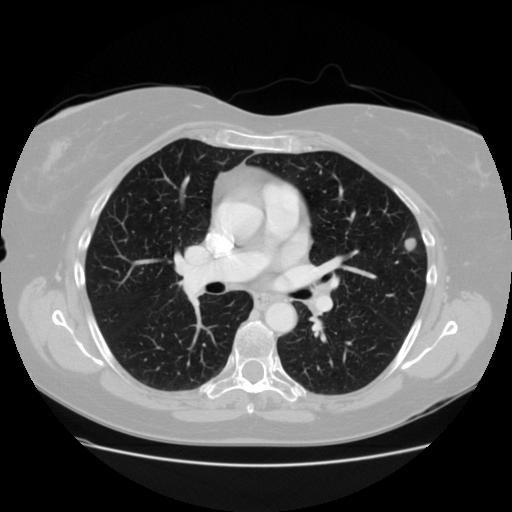nodule: (401, 235, 419, 253)
